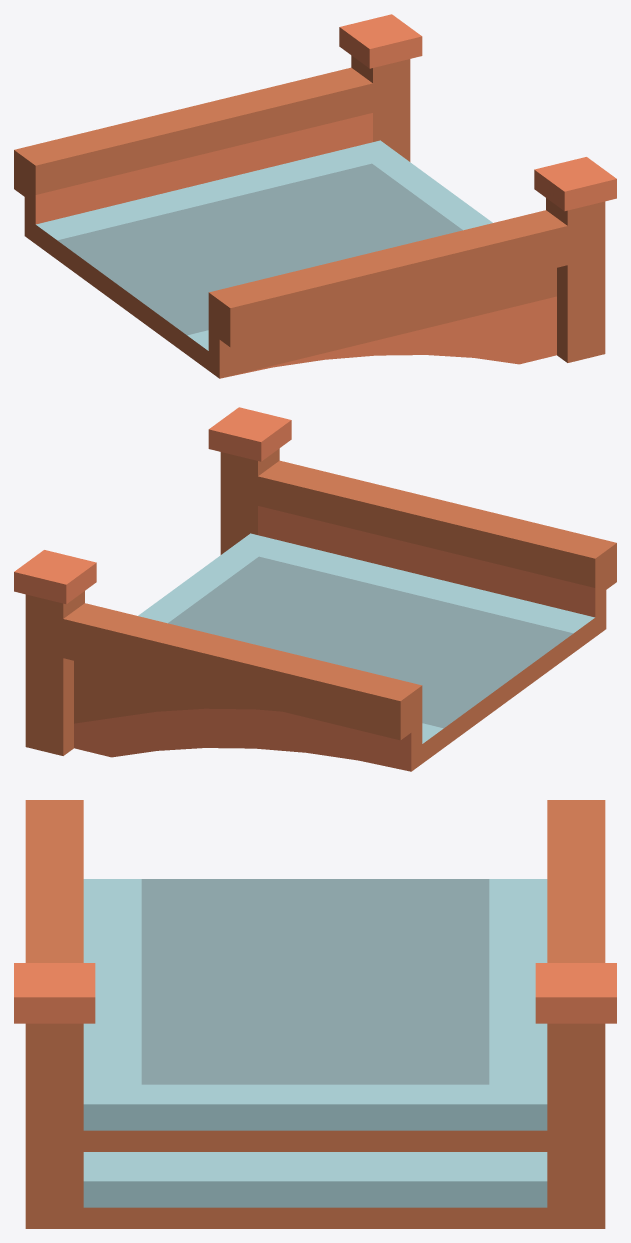
The model's file is bridge_side_woodRound.obj.
The picture shows the model from 3 angles, top to bottom: view 1: azimuth 30°, elevation 25°; view 2: azimuth 150°, elevation 25°; view 3: azimuth 270°, elevation 25°; orthographic projection. The views are drawn at different scales.
Parts seen in each view (by area): view 1: bridge_side_woodRound; view 2: bridge_side_woodRound; view 3: bridge_side_woodRound.
Part boxes in pixels (x1,y1,x2,y2): bridge_side_woodRound: (14, 14, 616, 378); bridge_side_woodRound: (14, 407, 616, 771); bridge_side_woodRound: (14, 800, 616, 1228).
Bounding box in the file's own units: 1.02 × 0.45 × 1.04.
